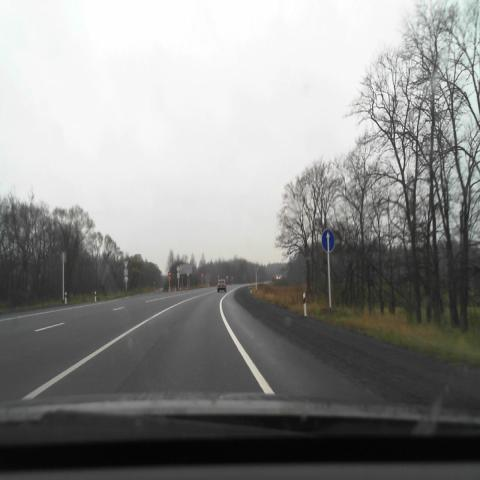4_1_1: (321, 228, 335, 253)
